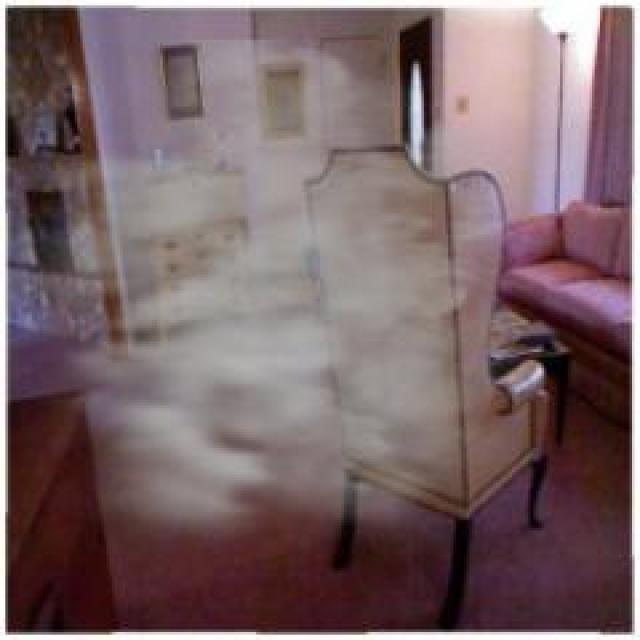smoke: (18, 39, 566, 573)
